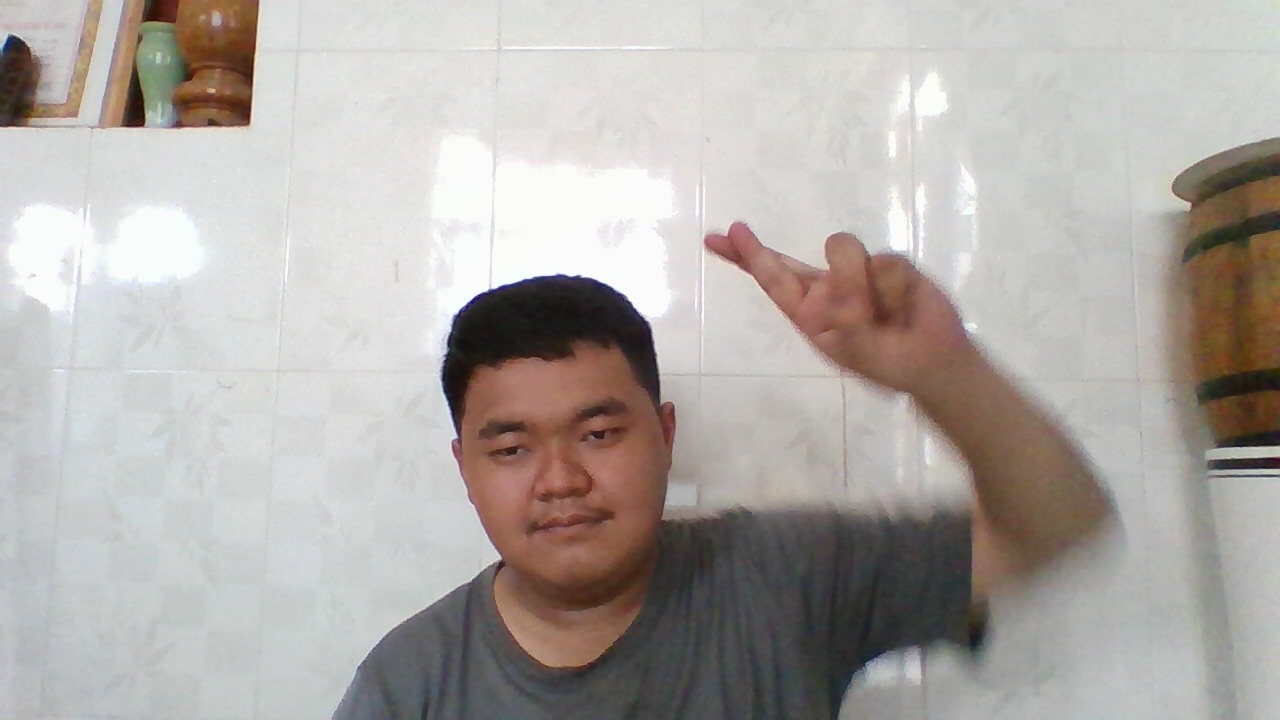R: (694, 217, 954, 388)
